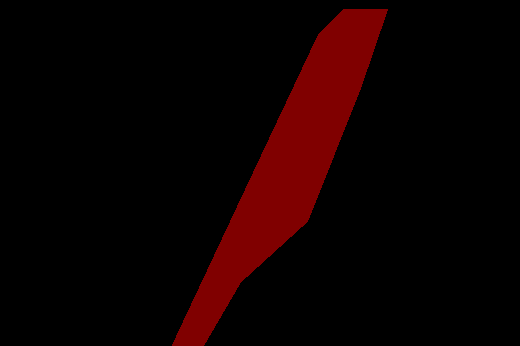fire: (168, 9, 387, 346)
